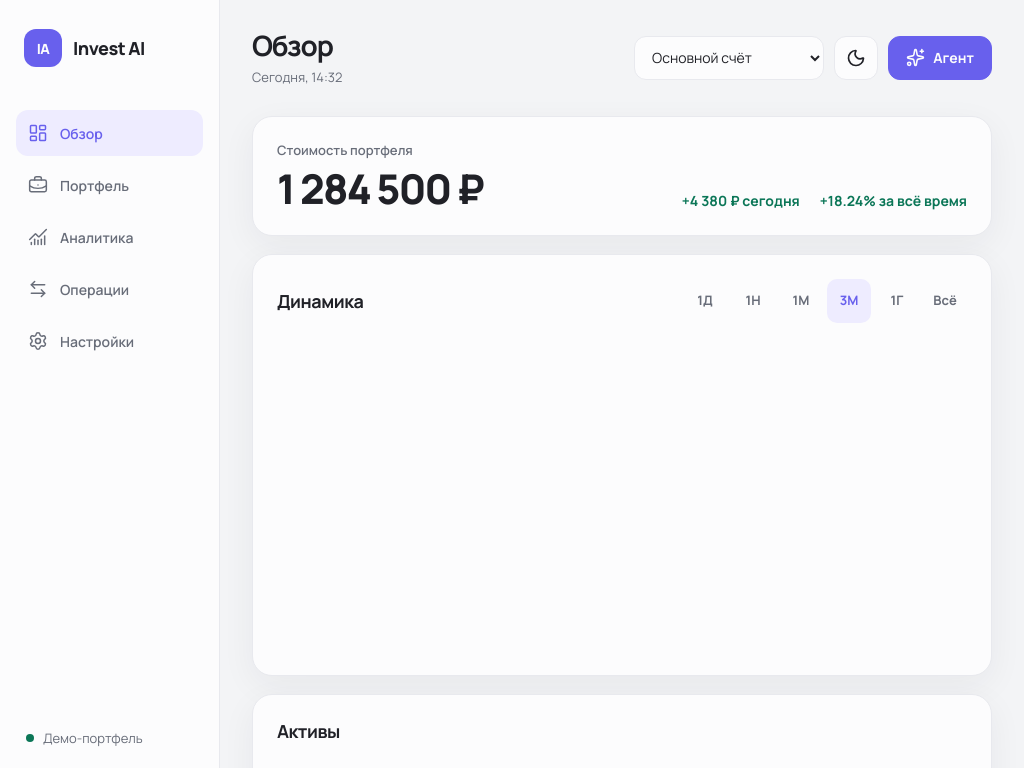
StandApp › opens the agent without navigation
Click the button with aria-label "Открыть агента". click: (940, 58)
box: [888,36,992,80]
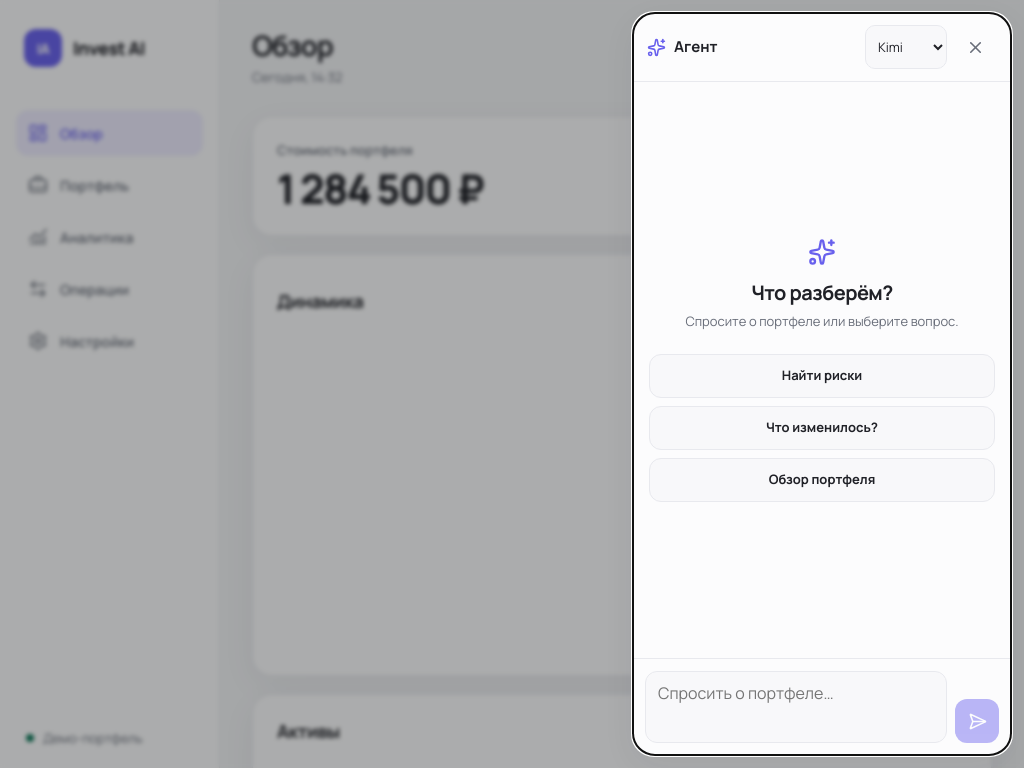
Expected: the heading "Обзор" is shown, [252,28,342,63]
Expected: the dialog named "ИИ-агент" is shown, [632,12,1012,756]
